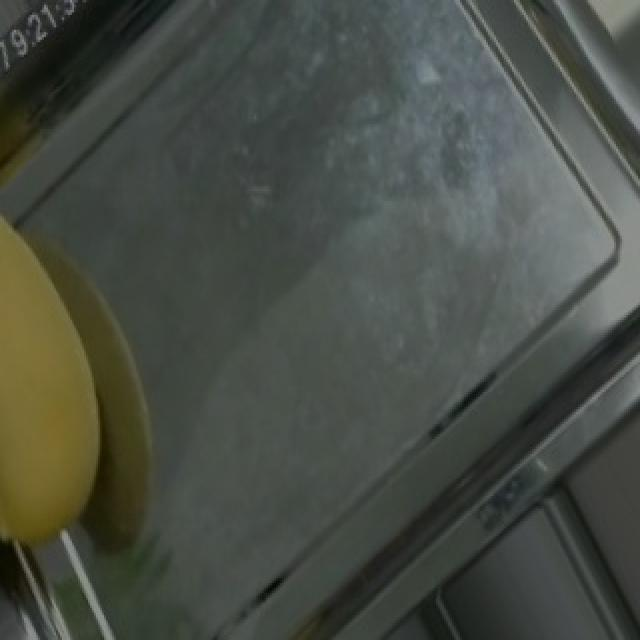fruit: (0, 208, 182, 580)
